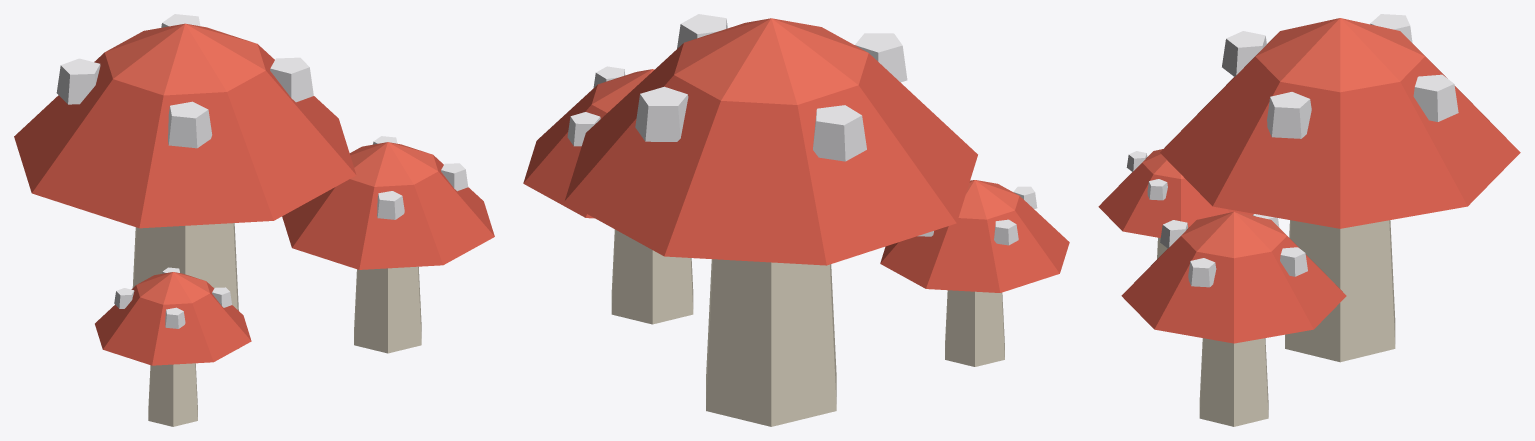
Rendered from mushrooms_red.gltf.
3 views of the same model, side by side, from view 1: azimuth 30°, elevation 25°; view 2: azimuth 150°, elevation 25°; view 3: azimuth 270°, elevation 25° (orthographic). The views are drawn at different scales.
Parts seen in each view (by area): view 1: mushrooms_red; view 2: mushrooms_red; view 3: mushrooms_red.
Part boxes in pixels (x1,y1,x2,y2): mushrooms_red: [14, 14, 494, 426]; mushrooms_red: [523, 14, 1069, 426]; mushrooms_red: [1098, 14, 1520, 426].
Bounding box in the file's own units: 0.541 × 0.396 × 0.4775.
Materials: 1 (1 with a texture image).
